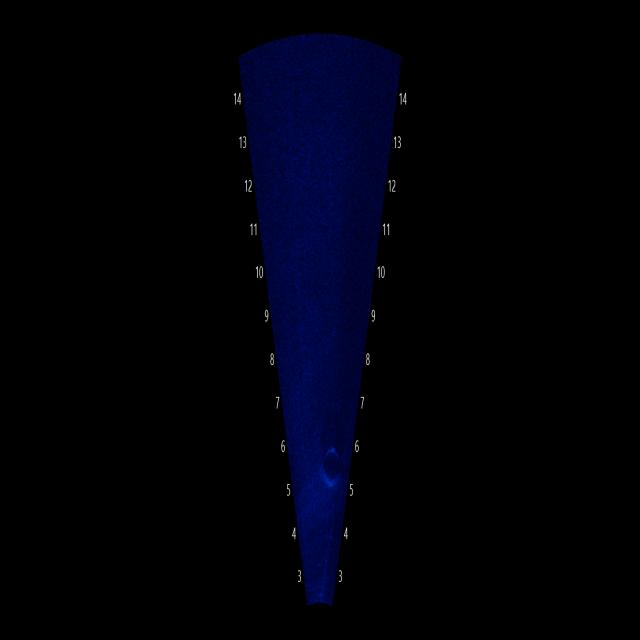circle: (316, 427, 346, 494)
